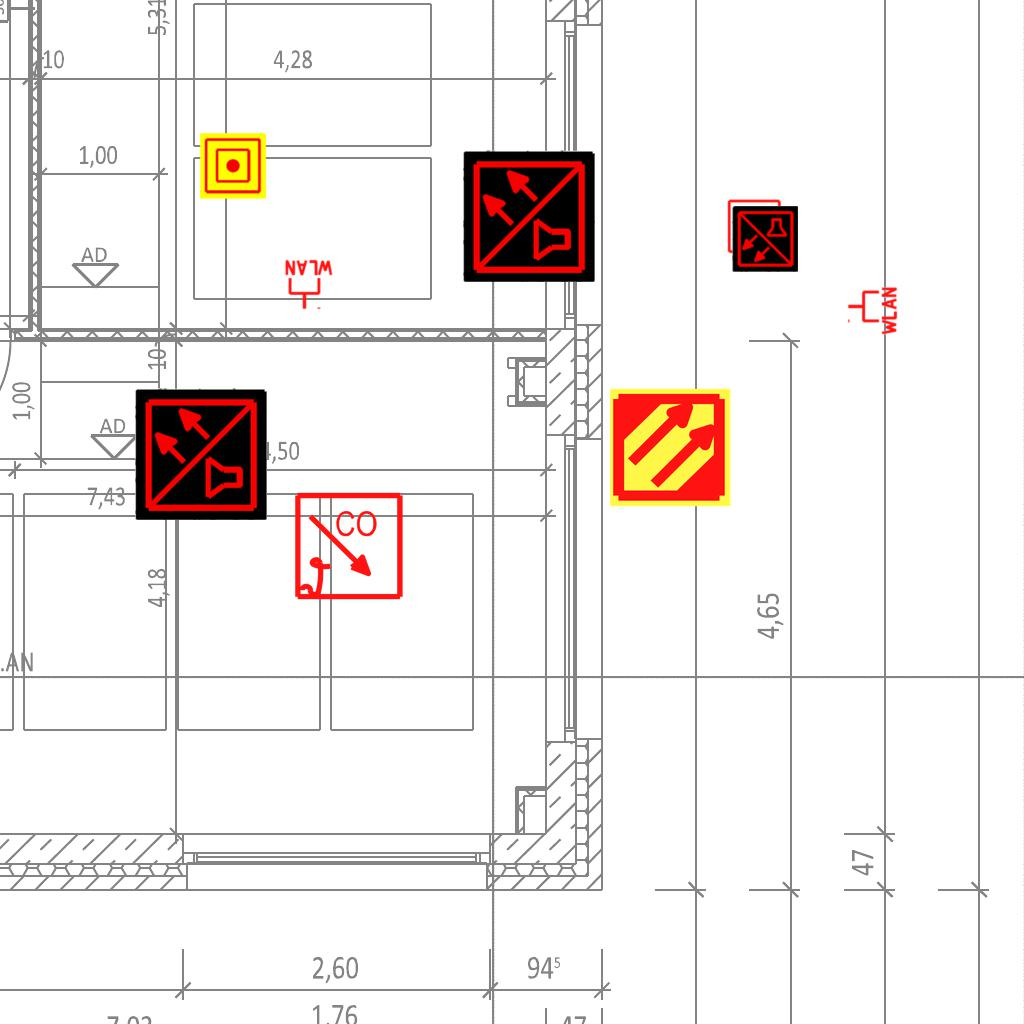ASR_Ansaugrauchmelder: (608, 385, 733, 510)
NAM-Nichtautomatischer_Melder: (200, 133, 266, 199)
OKW_Multisensormelder_(Kombination_optischer_Rauch-Kahlenmonoxid_Waerme-Melder): (463, 150, 595, 282), (135, 388, 267, 520), (732, 206, 798, 272)
ROA_Rauchmelder_optisch_mit_Signalgeber_(Sockelsirene): (293, 491, 406, 604), (727, 198, 783, 254)
WLAN: (846, 285, 898, 337), (283, 259, 335, 311)
